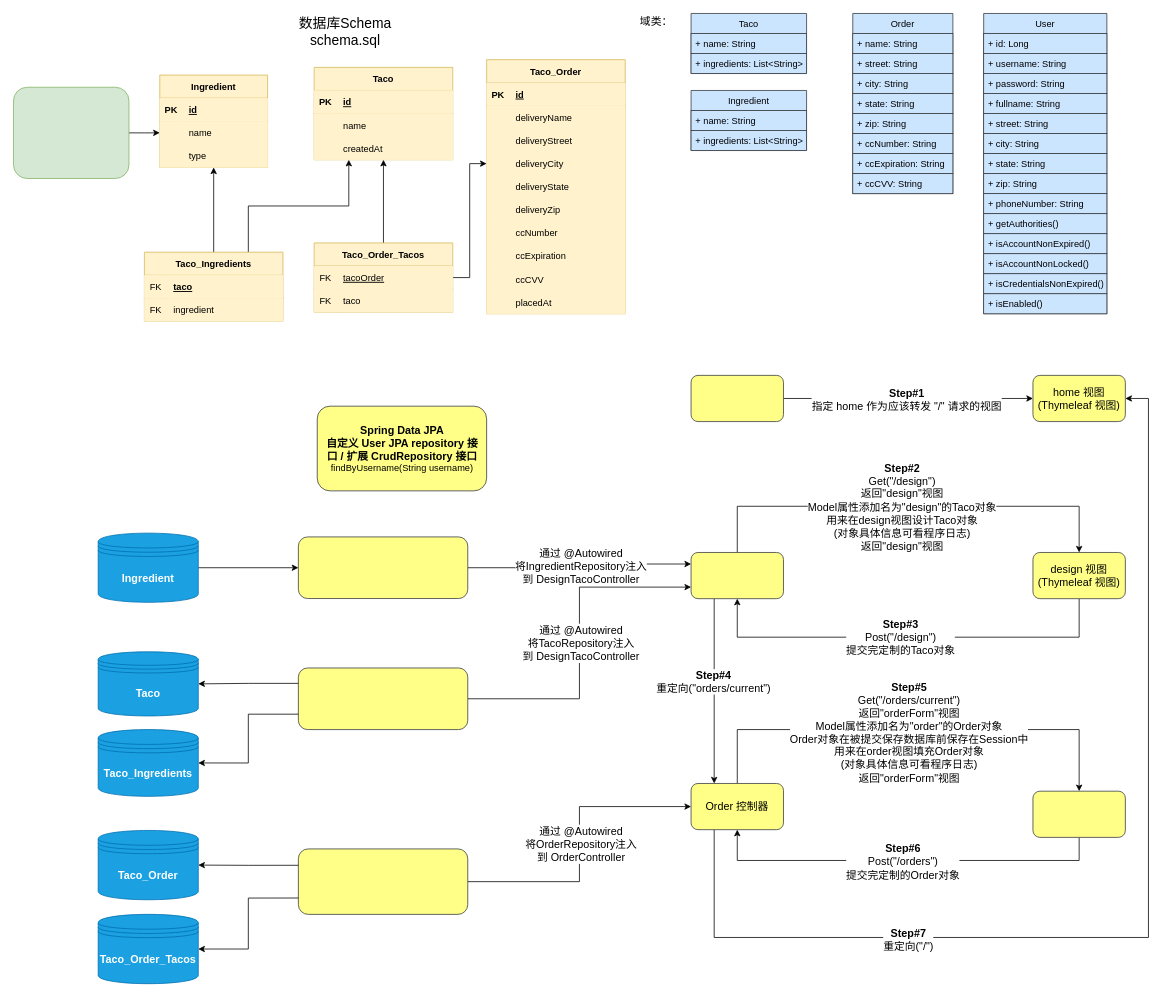
Some shapes in this 1168 by 997 pixel diagram are drawn without their labels. The shapes that lost their labels are listed below. From the top down, each one's centre as x and y in pixels, then its label:
pixel 71 132: data.sql 预加载一些已有的Ingredient数据到数据库 提供现有的原料让顾客设计自己的taco
pixel 736 398: WebConfig 视图控制器
pixel 383 567: Spring Data JPA IngredientRepository接口 / 扩展 CrudRepository 接口
pixel 736 575: DesignTaco 控制器
pixel 383 698: Spring Data JPA TacoRepository接口 / 扩展 CrudRepository 接口
pixel 1078 813: orderForm 视图 ( Thymeleaf 视图 )
pixel 383 881: Spring Data JPA OrderRepository接口 / 扩展 CrudRepository 接口
